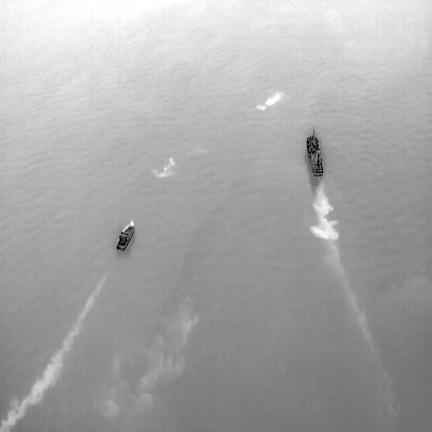flukeprints: (155, 158, 176, 177), (265, 93, 281, 105), (256, 105, 267, 111)
